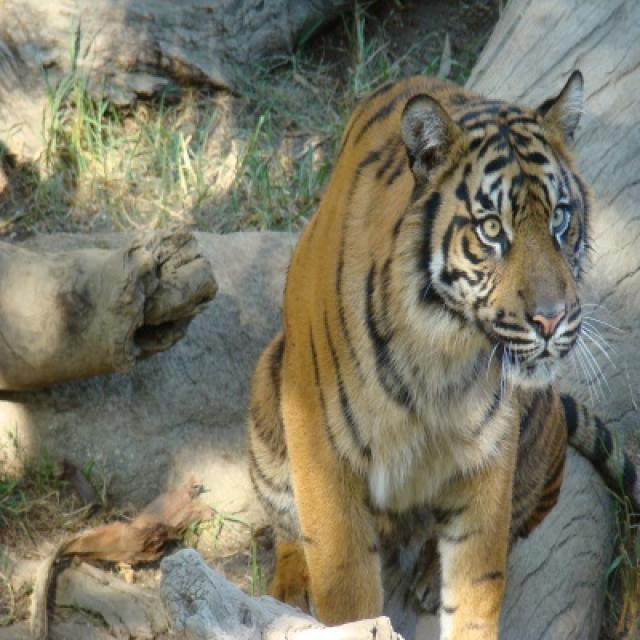Tiger: (246, 74, 638, 638)
